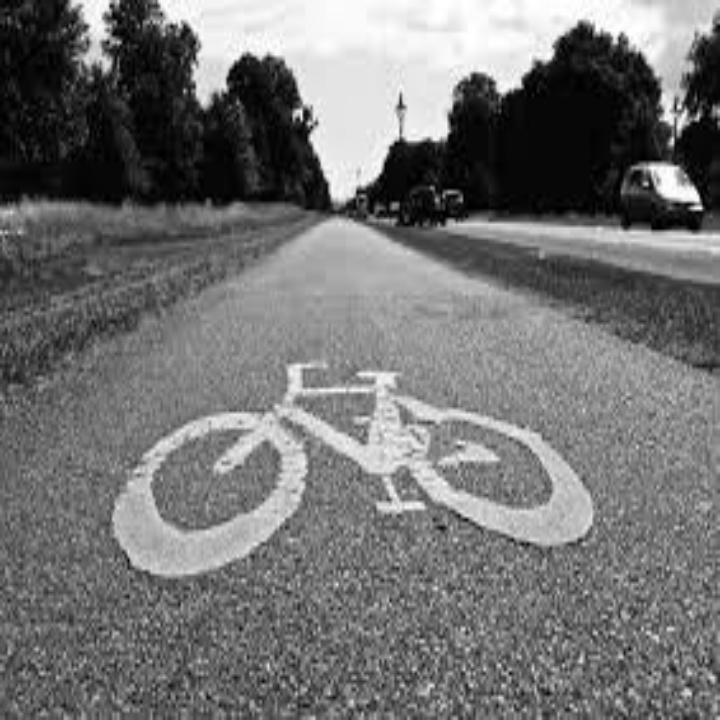bicycle: (73, 335, 630, 611)
